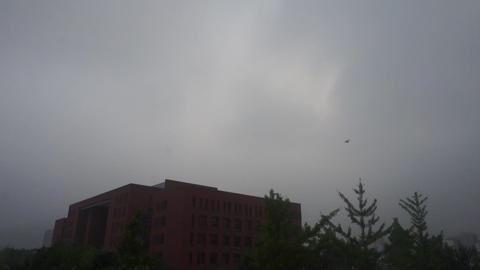UAV: (344, 139, 351, 144)
